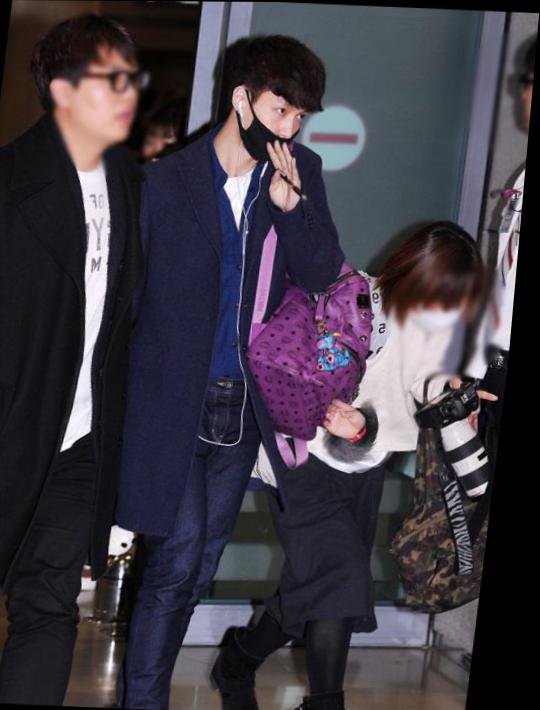NONE: (67, 55, 147, 142)
WRONG: (235, 82, 322, 164)
